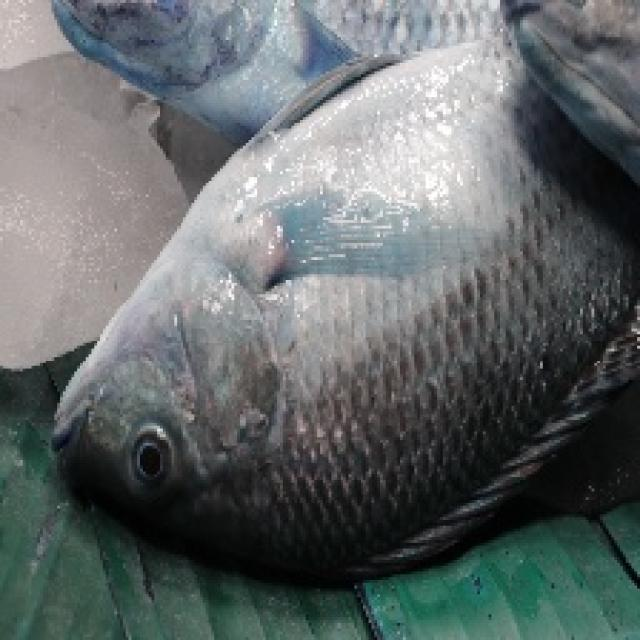Fresh: (48, 140, 640, 542)
